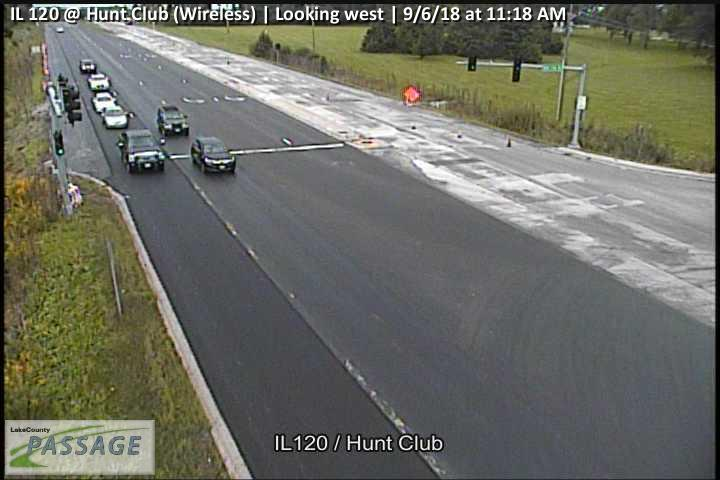Sedan: (116, 129, 167, 173), (189, 136, 236, 174), (157, 102, 191, 139), (100, 103, 135, 130), (91, 88, 117, 112), (87, 71, 111, 89), (77, 57, 96, 74)
